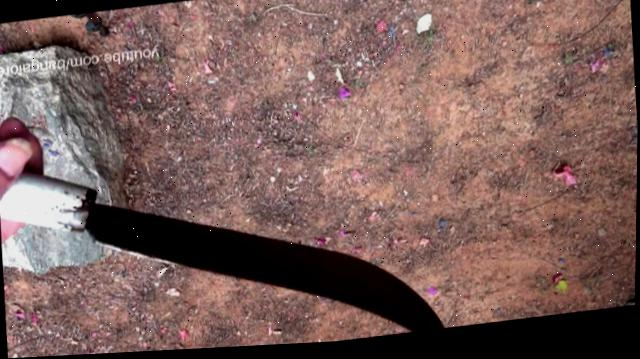long knife: (0, 63, 453, 359)
